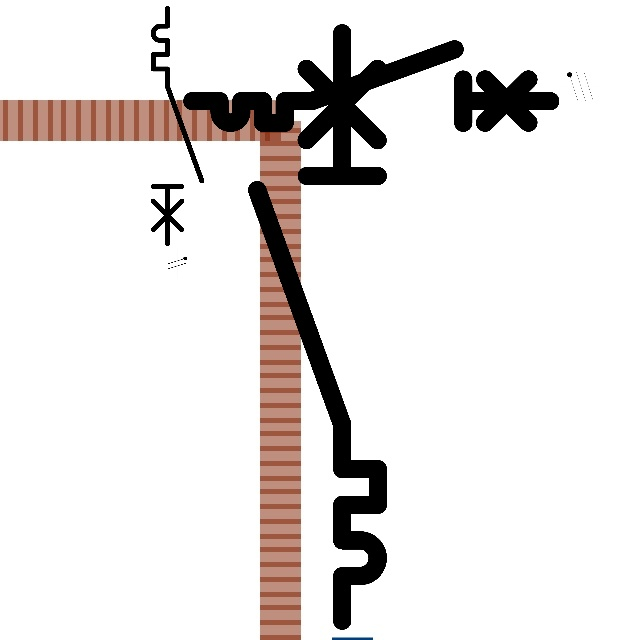interruptor_termomagnetico: (242, 18, 393, 636), (183, 40, 559, 132), (147, 2, 207, 250)
